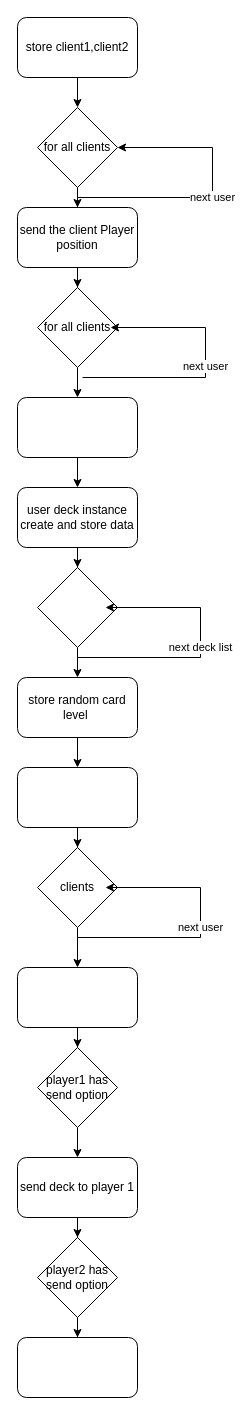
Image size: 252x1415. Some labels were removed from this diagram. Each missing label, with the centre of its shape:
"send deck to player 2" belongs at point (77, 1367).
"shuffle the deck list1 and get first 8 card" belongs at point (77, 797).
"store the player info for log" belongs at point (77, 997).
"update the user stats" belongs at point (77, 427).
"user decklist" belongs at point (77, 607).
